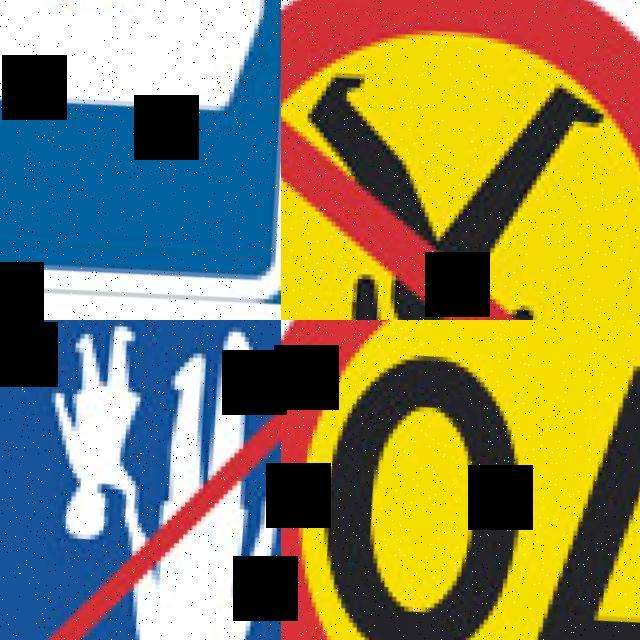31: (281, 0, 640, 320)
51: (0, 320, 281, 640)
55: (281, 320, 640, 640)
Symbol plate for specified vehicle or road user category: (0, 0, 281, 320)
